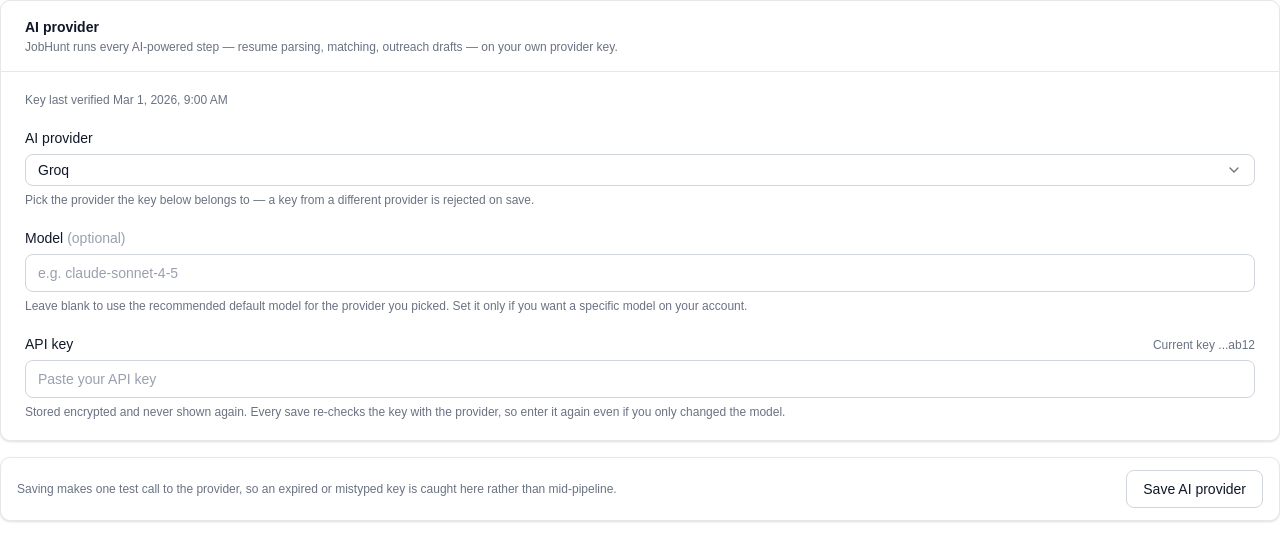
Test: LlmConfigSection › toasts a non-validation failure rather than rendering it inline
Step 1. Type "gsk-secret" into the password field labelled "API key" → {"x": 640, "y": 379}, box [25, 360, 1255, 398]
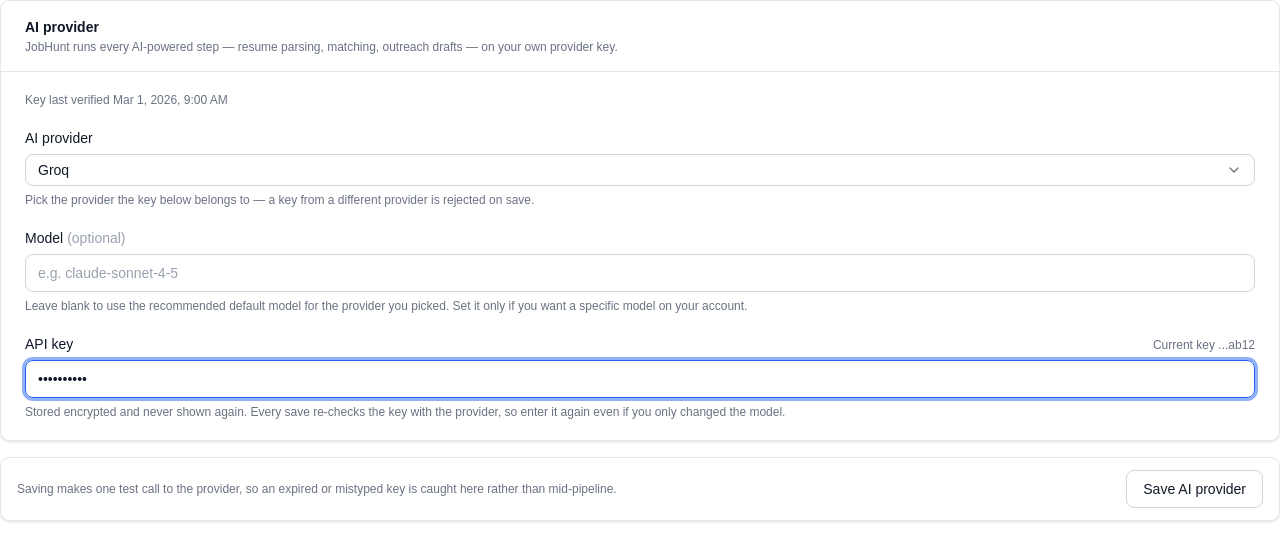
Step 2. Click the button "Save AI provider" → {"x": 1195, "y": 489}, box [1126, 470, 1263, 508]
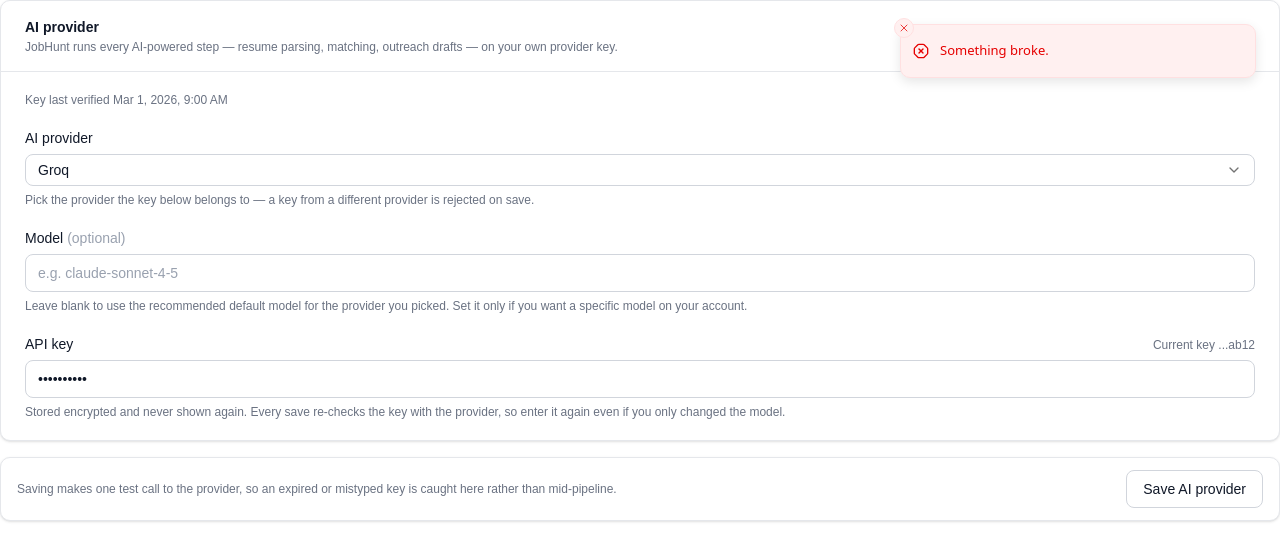
Now the text "Something broke." is shown, box [940, 41, 1049, 60]
